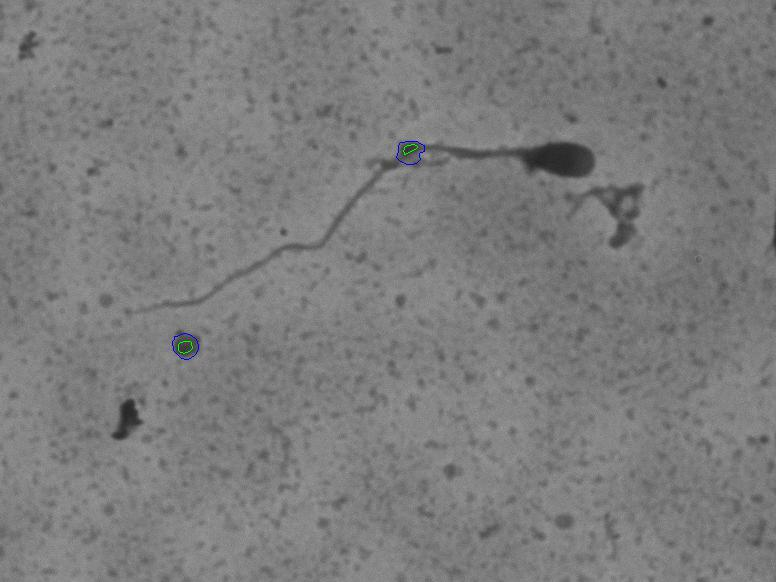Normal: (138, 104, 613, 326)
